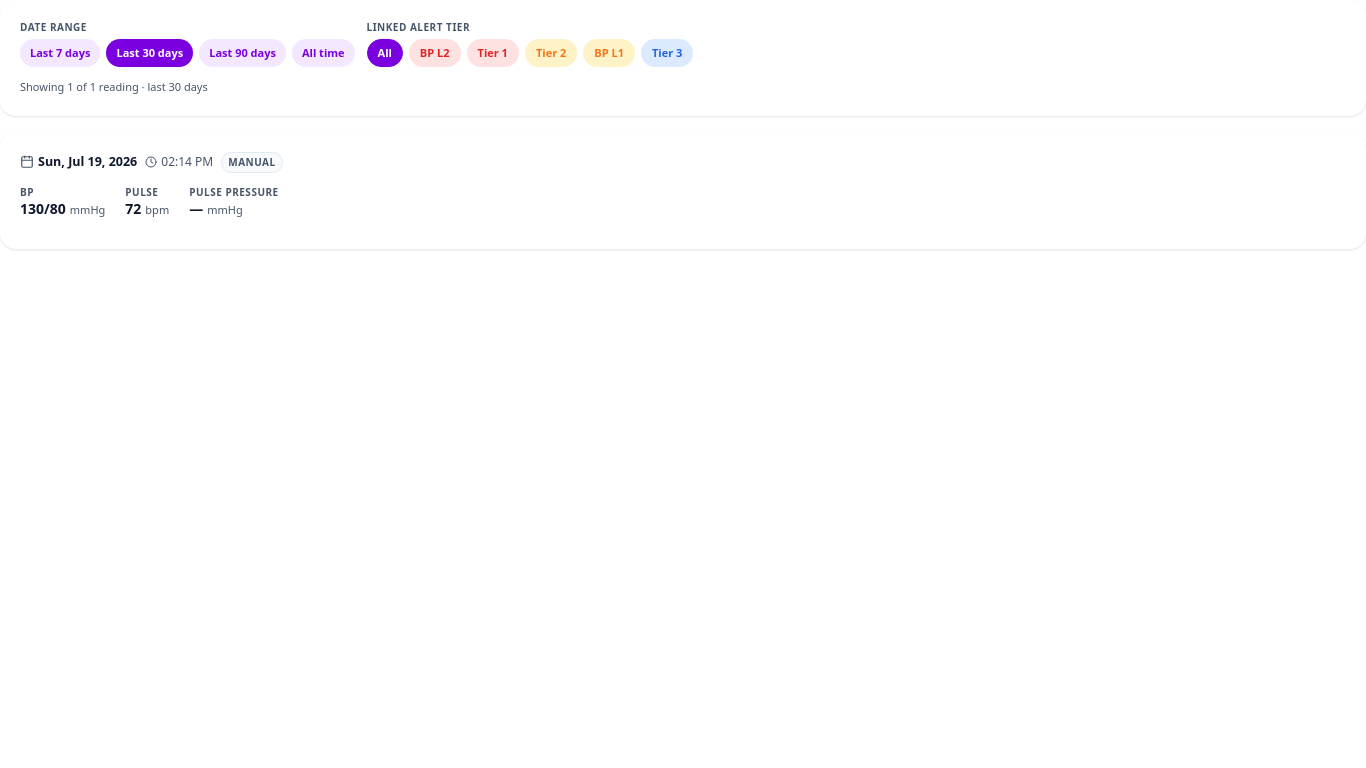
Test: ReadingsTab — role-gated CRUD affordances › card press for HEALPLACE_OPS opens read-only view WITHOUT the Edit switch
The width and height of the screenshot is (1366, 768).
Click the element with test id "admin-readings-card-a". click: (683, 190)
box: x1=0 y1=132 x2=1365 y2=249
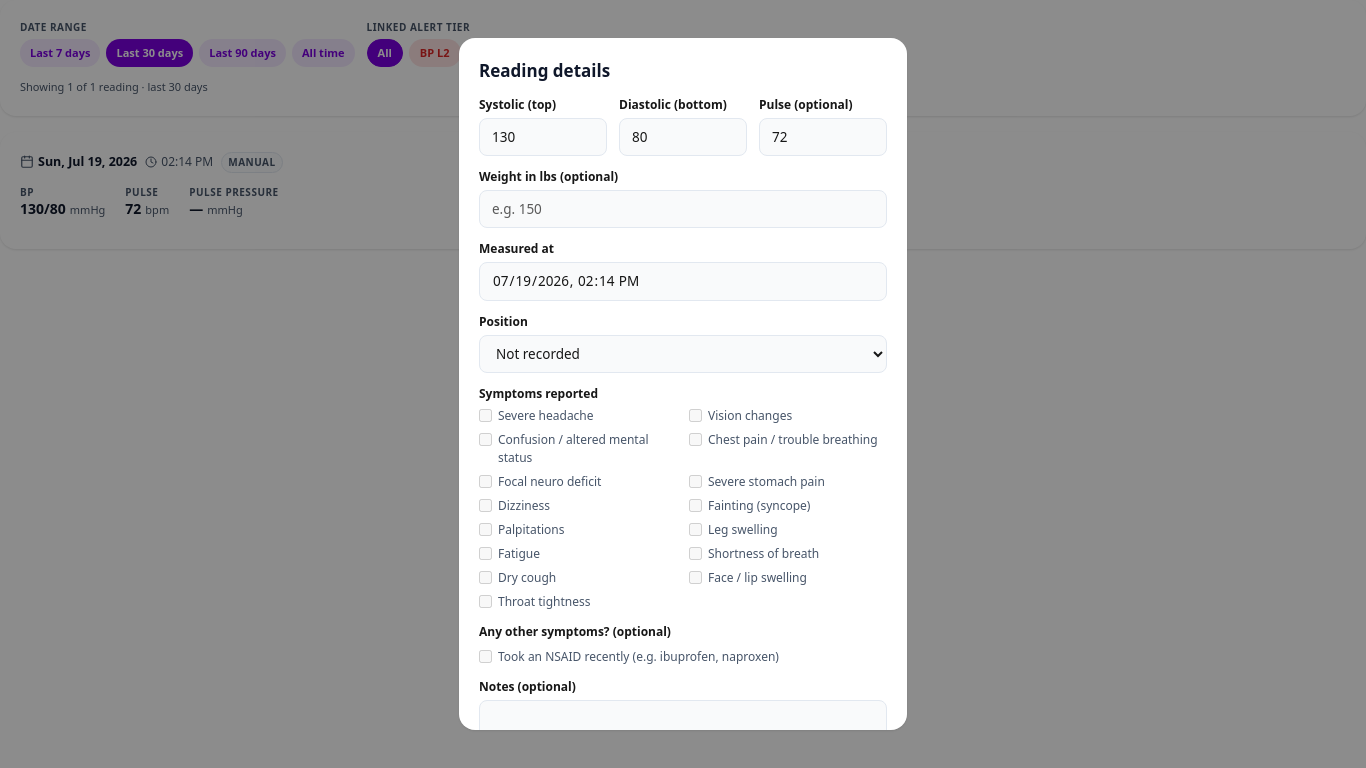
Expected: the dialog with test id "admin-add-edit-reading-modal" is shown
Expected: the number field with test id "admin-reading-systolic" is disabled, x1=479 y1=118 x2=607 y2=156
